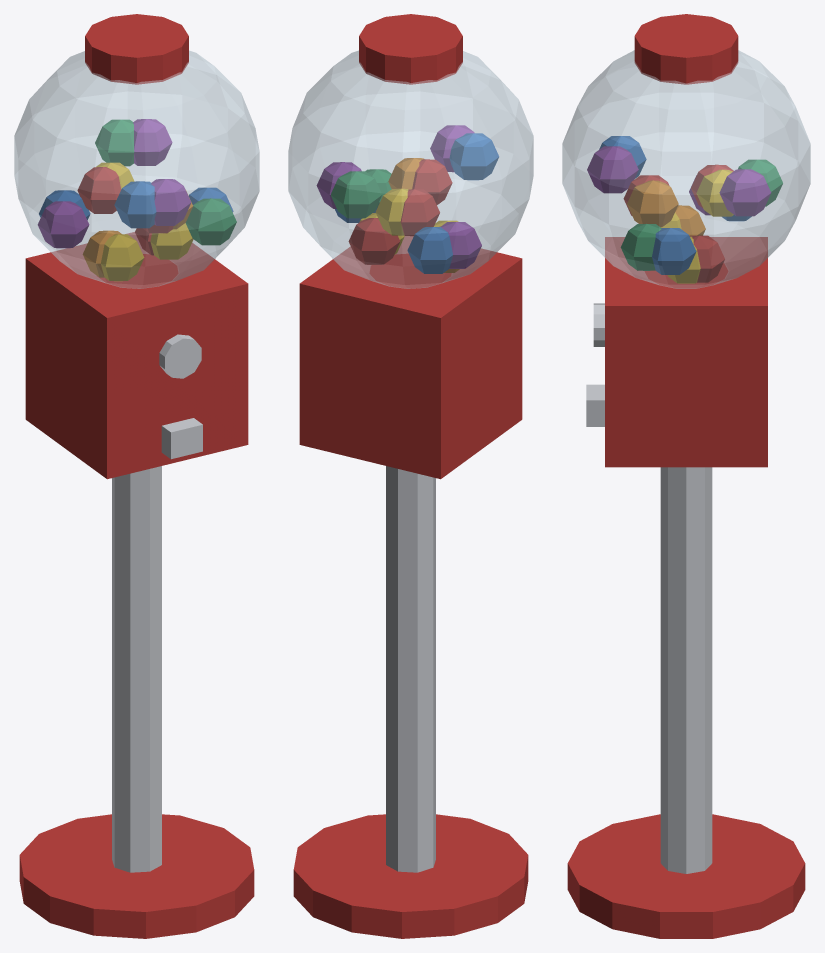
The model's file is gumball.glb.
3 renders of one model, left to right at view 1: azimuth 30°, elevation 25°; view 2: azimuth 150°, elevation 25°; view 3: azimuth 270°, elevation 25°, orthographic.
Parts seen in each view (by area): view 1: gumball; view 2: gumball; view 3: gumball.
Part boxes in pixels (x1,y1,x2,y2): gumball: [14, 14, 259, 938]; gumball: [288, 14, 533, 938]; gumball: [562, 14, 810, 938].
Bounding box in the file's own units: 0.3264 × 1.27 × 0.3348.
